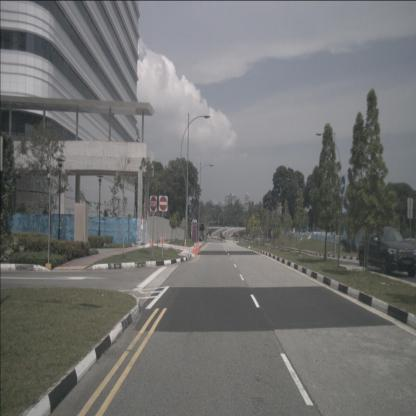movable_object-trafficcone: (147, 233, 150, 244), (194, 243, 197, 253), (197, 242, 200, 251), (195, 243, 198, 252), (193, 243, 195, 254), (162, 236, 165, 243), (197, 242, 199, 252), (150, 237, 152, 247), (184, 238, 186, 247), (160, 236, 162, 244)
vehicle-car: (358, 226, 416, 278)
